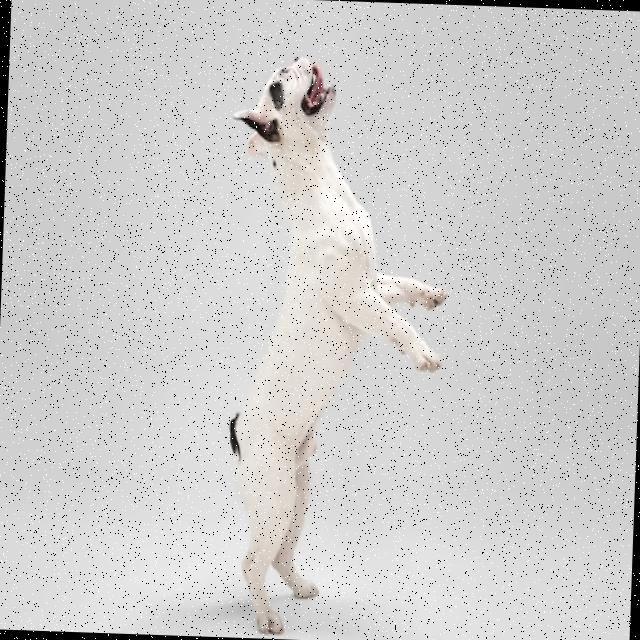Dog: (213, 52, 456, 640)
